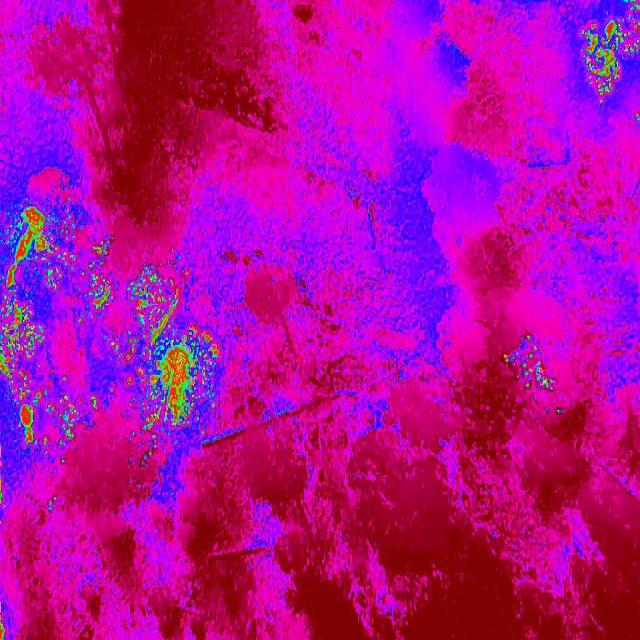fire: (0, 192, 114, 459), (114, 258, 224, 436), (577, 0, 640, 108), (502, 334, 558, 400), (0, 602, 9, 640)
